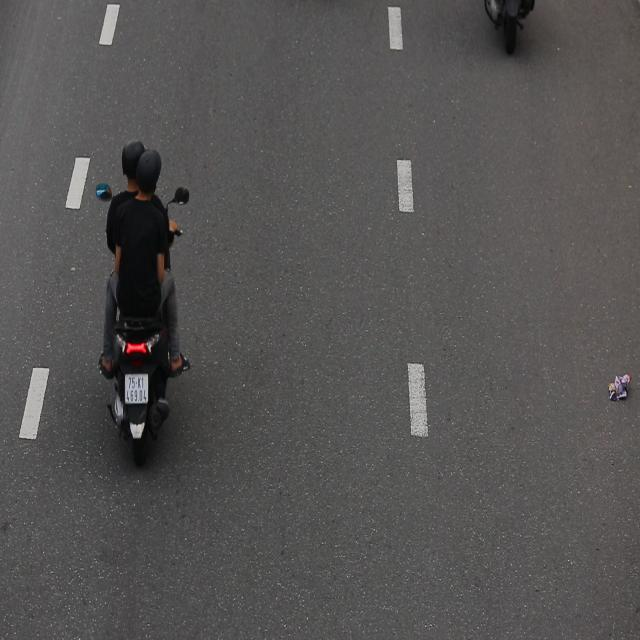motorbike: (87, 123, 194, 463)
